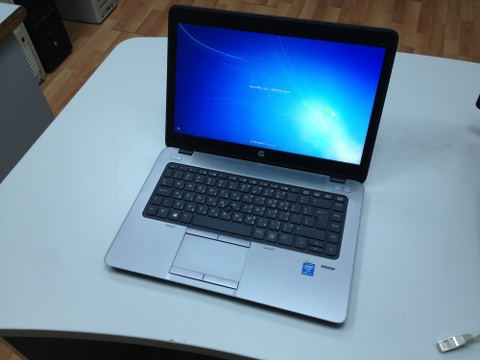pc: (104, 5, 398, 324)
